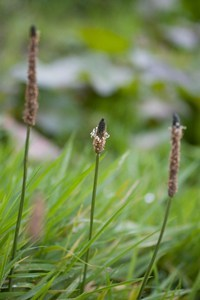buckhorn plantain: (13, 16, 47, 181), (80, 99, 118, 236), (154, 105, 179, 247)
